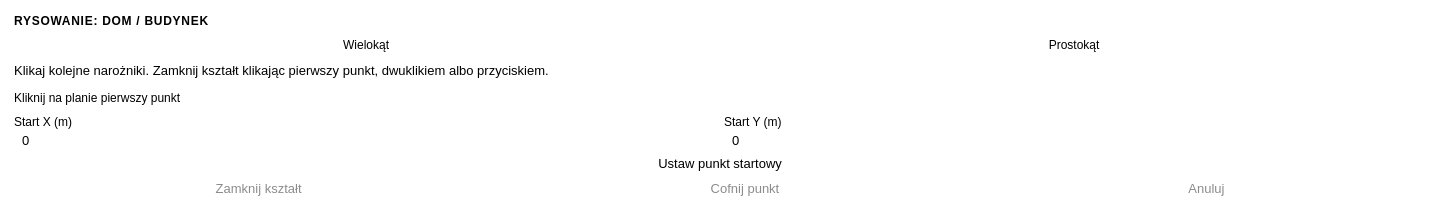
Test: DrawPanel › switches between polygon and rectangle mode
Step 1. Click the button "Prostokąt" → (1074, 45), box [722, 38, 1426, 52]
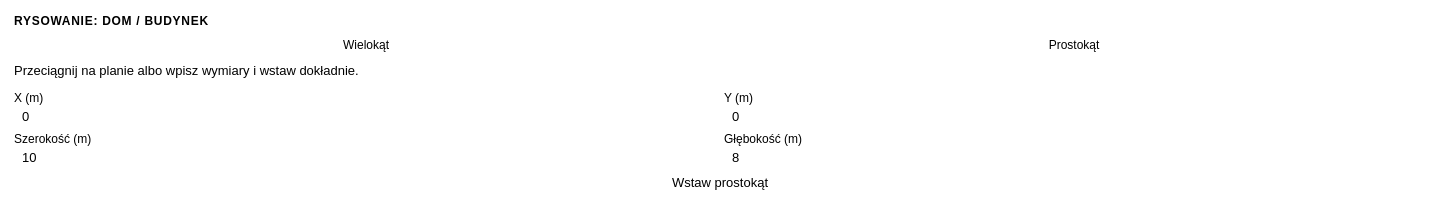
Check: the text "Przeciągnij na planie albo wpisz wymiary i wstaw dokładnie." is shown, box [14, 63, 359, 78]
